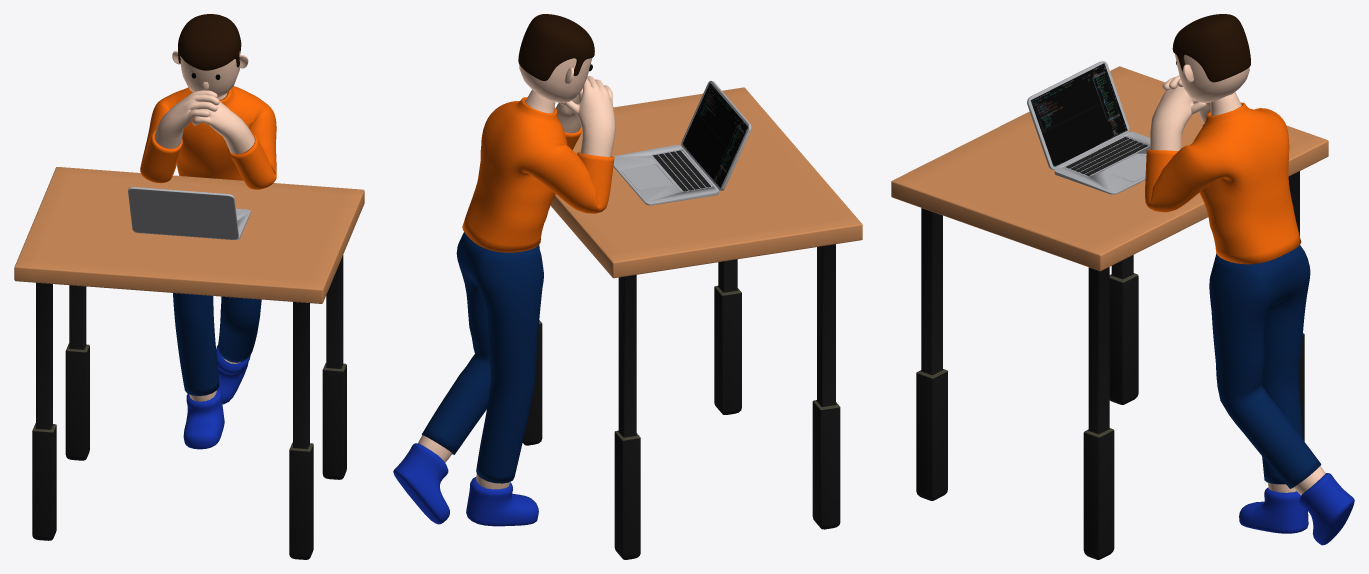
File: portfolio_model.glb
The picture shows the model from 3 angles, left to right: view 1: azimuth 30°, elevation 25°; view 2: azimuth 150°, elevation 25°; view 3: azimuth 270°, elevation 25°; orthographic projection. The views are drawn at different scales.
Parts seen in each view (by area): view 1: Portfolio_Model; view 2: Portfolio_Model; view 3: Portfolio_Model.
Part boxes in pixels (x1=…): Portfolio_Model: x1=14, y1=14, x2=364, y2=559; Portfolio_Model: x1=393, y1=14, x2=862, y2=559; Portfolio_Model: x1=891, y1=14, x2=1354, y2=559.
Size of the model in its own units: 47.68 by 59.08 by 49.37.
13 materials, 1 textured.
